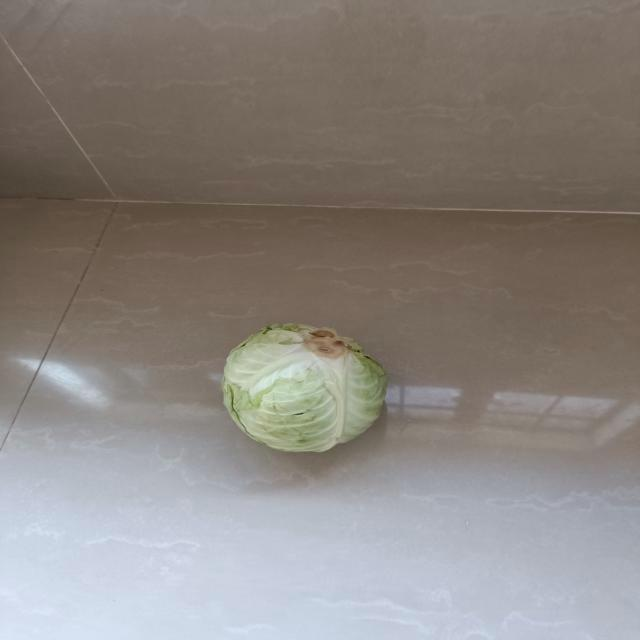cabbage: (219, 320, 390, 455)
